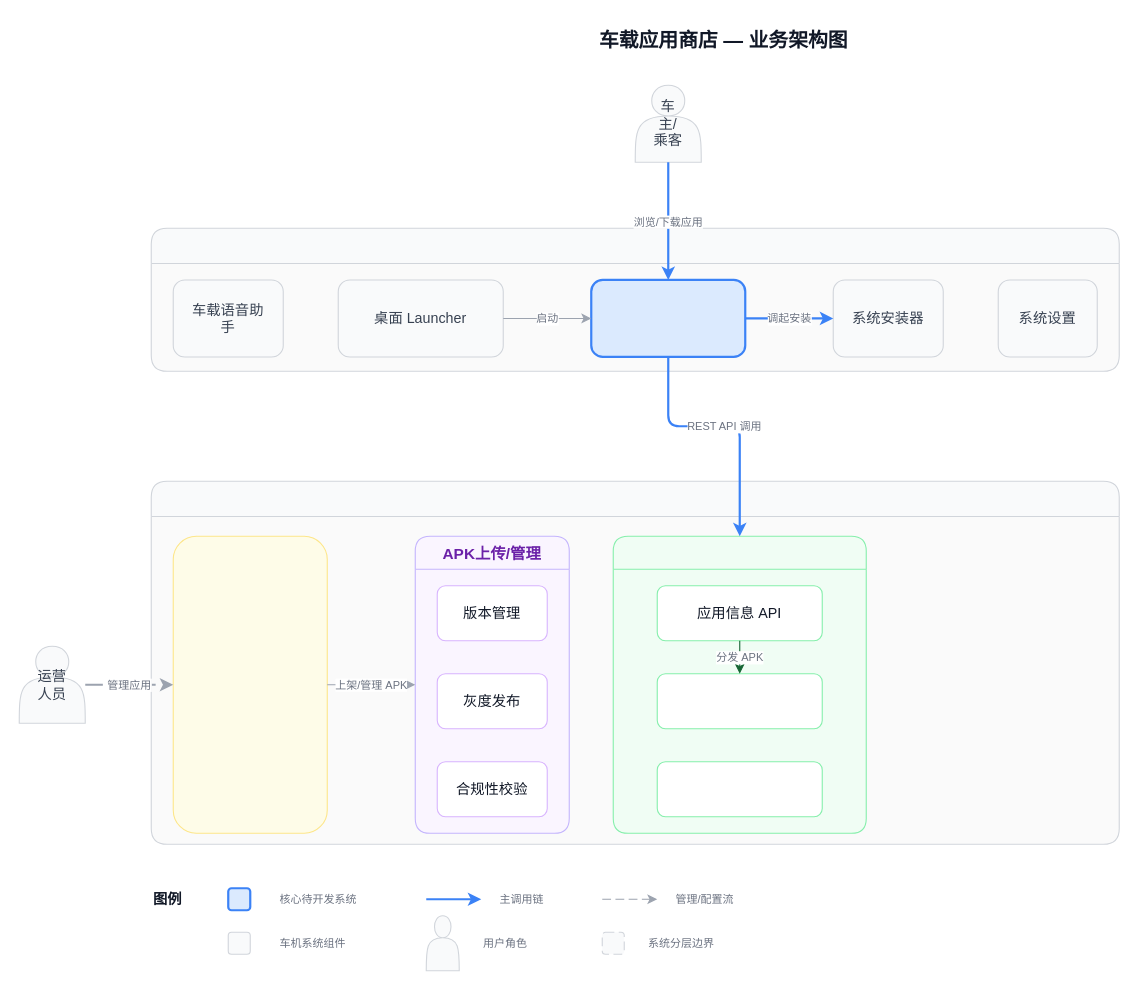
This 1139x990 diagram has some shape labels left out. The centre of each missing label's shape, as x and y in pixels:
"下载 CDN" belongs at [739,701].
"应用商店 App (待开发系统)" belongs at [668,318].
"数据统计" belongs at [739,789].
"运营后台 Web 应用管理 推荐配置 分类管理 数据面板" belongs at [249,684].
